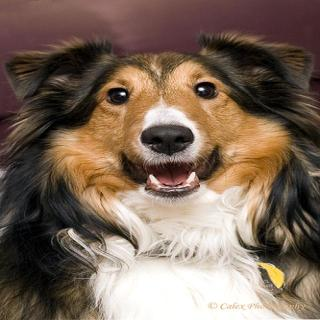dog: (8, 28, 318, 220)
nose: (138, 119, 196, 158)
